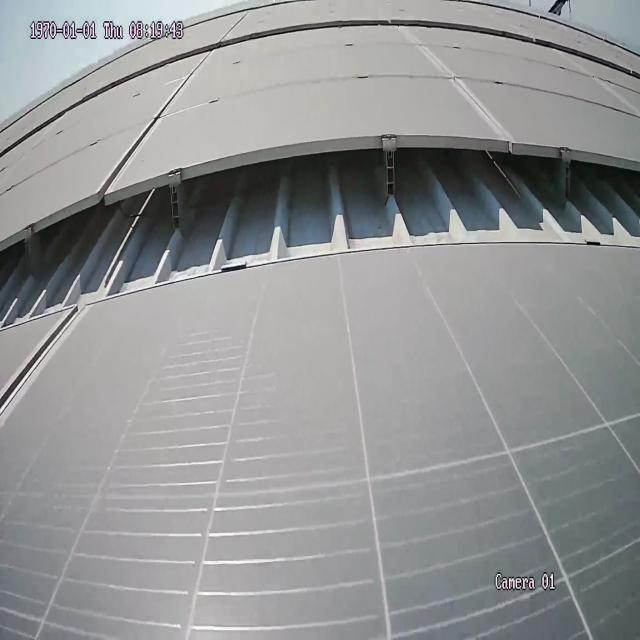interior panel: (95, 54, 211, 186), (391, 29, 517, 133), (2, 313, 84, 426)
outher panel: (3, 128, 640, 327)
